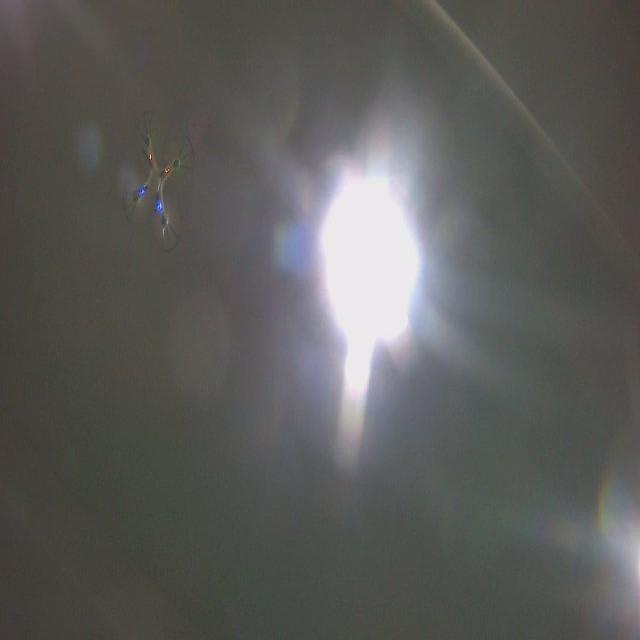drone: (120, 103, 198, 254)
